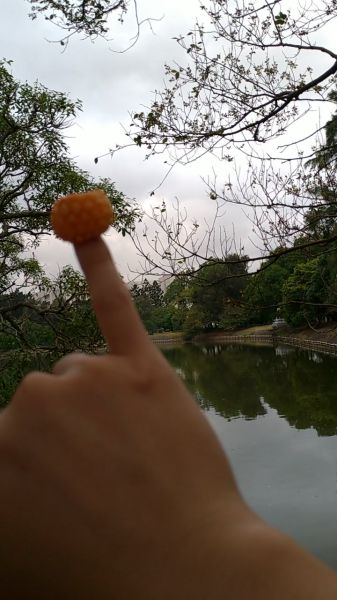eggs: (50, 191, 115, 242)
